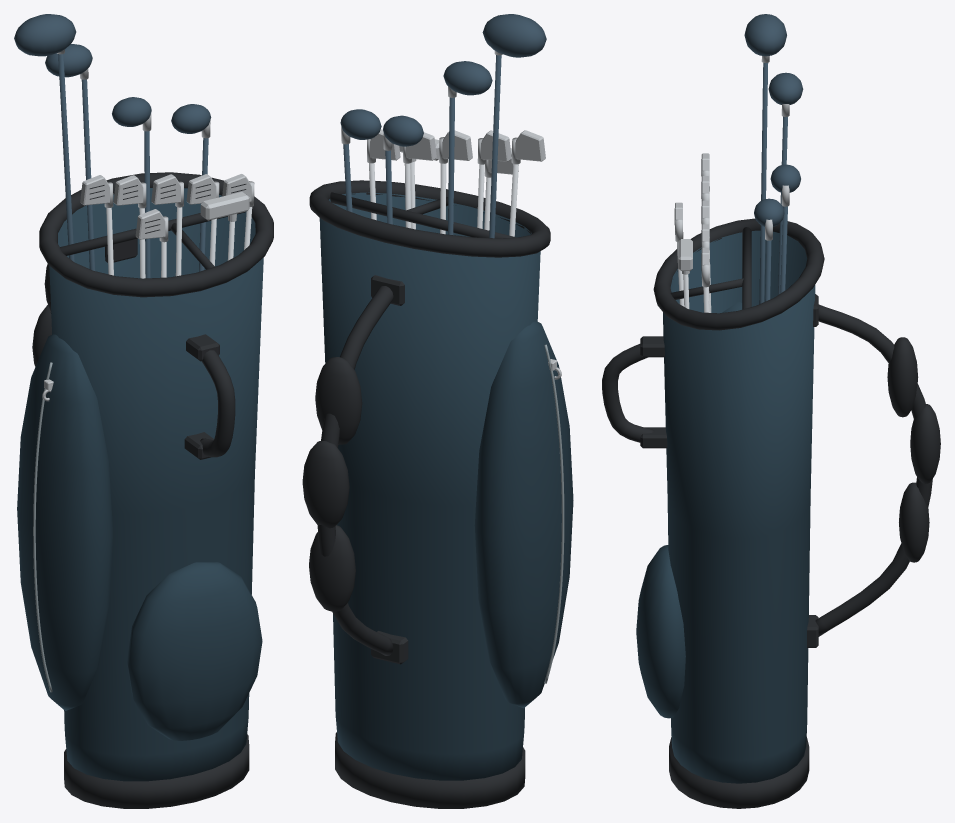
Rendered from full.fbx.
The picture shows the model from 3 angles, left to right: view 1: azimuth 30°, elevation 25°; view 2: azimuth 150°, elevation 25°; view 3: azimuth 270°, elevation 25°; orthographic projection. The views are drawn at different scales.
Parts seen in each view (by area): view 1: Hollow tapered bag body, Long convex side pocket, Small lower front pocket, Slanted padded mouth rim, Rigid oval bag floor, Open carry handle, Driver rounded club head, Driver shaft, Mouth divider across, Wood rounded club head, Side pocket zipper piping, Putter head (+13 smaller); view 2: Hollow tapered bag body, Long convex side pocket, Slanted padded mouth rim, Rigid oval bag floor, Continuous shoulder strap, Segmented shoulder pad 1, Segmented shoulder pad 2, Segmented shoulder pad 0, Driver rounded club head, Mouth divider across, Wood rounded club head, Side pocket zipper piping (+11 smaller); view 3: Hollow tapered bag body, Small lower front pocket, Slanted padded mouth rim, Continuous shoulder strap, Rigid oval bag floor, Open carry handle, Segmented shoulder pad 2, Segmented shoulder pad 1, Segmented shoulder pad 0, Driver rounded club head, Driver shaft, Wood rounded club head (+3 smaller).
Boxes of the visible parts, x1,y1,x2,y2 form: Hollow tapered bag body: (49, 188, 263, 781); Long convex side pocket: (17, 334, 112, 710); Small lower front pocket: (127, 562, 262, 740); Slanted padded mouth rim: (39, 172, 273, 297); Rigid oval bag floor: (64, 734, 249, 808); Open carry handle: (200, 350, 235, 457); Driver rounded club head: (14, 14, 76, 56); Driver shaft: (58, 54, 74, 261); Mouth divider across: (60, 211, 245, 255); Wood rounded club head: (45, 44, 92, 77); Side pocket zipper piping: (33, 362, 52, 692); Putter head: (200, 192, 249, 220); Hollow tapered bag body: (319, 192, 540, 780); Long convex side pocket: (474, 321, 573, 708); Slanted padded mouth rim: (309, 180, 550, 257); Rigid oval bag floor: (335, 732, 525, 808); Continuous shoulder strap: (317, 286, 393, 655); Segmented shoulder pad 1: (302, 441, 349, 528); Segmented shoulder pad 2: (315, 357, 362, 444); Segmented shoulder pad 0: (309, 525, 355, 611); Driver rounded club head: (482, 14, 546, 57); Mouth divider across: (330, 192, 516, 238); Wood rounded club head: (443, 61, 492, 95); Side pocket zipper piping: (544, 344, 564, 683); Hollow tapered bag body: (663, 230, 815, 783); Small lower front pocket: (636, 545, 685, 718); Slanted padded mouth rim: (653, 218, 824, 330); Continuous shoulder strap: (815, 304, 932, 636); Rigid oval bag floor: (669, 737, 809, 808); Open carry handle: (602, 344, 654, 442); Segmented shoulder pad 2: (887, 337, 918, 417); Segmented shoulder pad 1: (910, 404, 940, 483); Segmented shoulder pad 0: (899, 482, 929, 562); Driver rounded club head: (744, 14, 786, 56); Driver shaft: (759, 63, 768, 303); Wood rounded club head: (768, 72, 803, 104).
Size of the model in its own units: 37.48 by 117 by 50.71.
